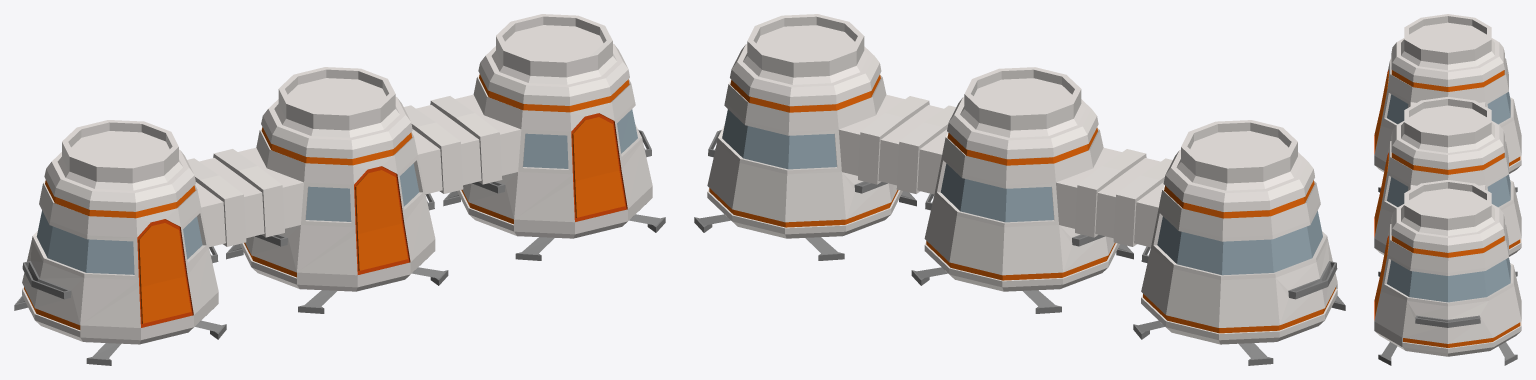
The model's file is Mars-One_Residence.FBX.
The picture shows the model from 3 angles, left to right: view 1: azimuth 30°, elevation 25°; view 2: azimuth 150°, elevation 25°; view 3: azimuth 270°, elevation 25°; orthographic projection. The views are drawn at different scales.
Visible parts, largest first — view 1: Cylinder001; view 2: Cylinder001; view 3: Cylinder001.
Boxes of the visible parts, x1=… form: Cylinder001: x1=14, y1=14, x2=665, y2=365; Cylinder001: x1=694, y1=14, x2=1345, y2=365; Cylinder001: x1=1374, y1=14, x2=1521, y2=365.
Bounding box in the file's own units: 168 × 46.45 × 44.91.
Materials: 1 (1 with a texture image).
